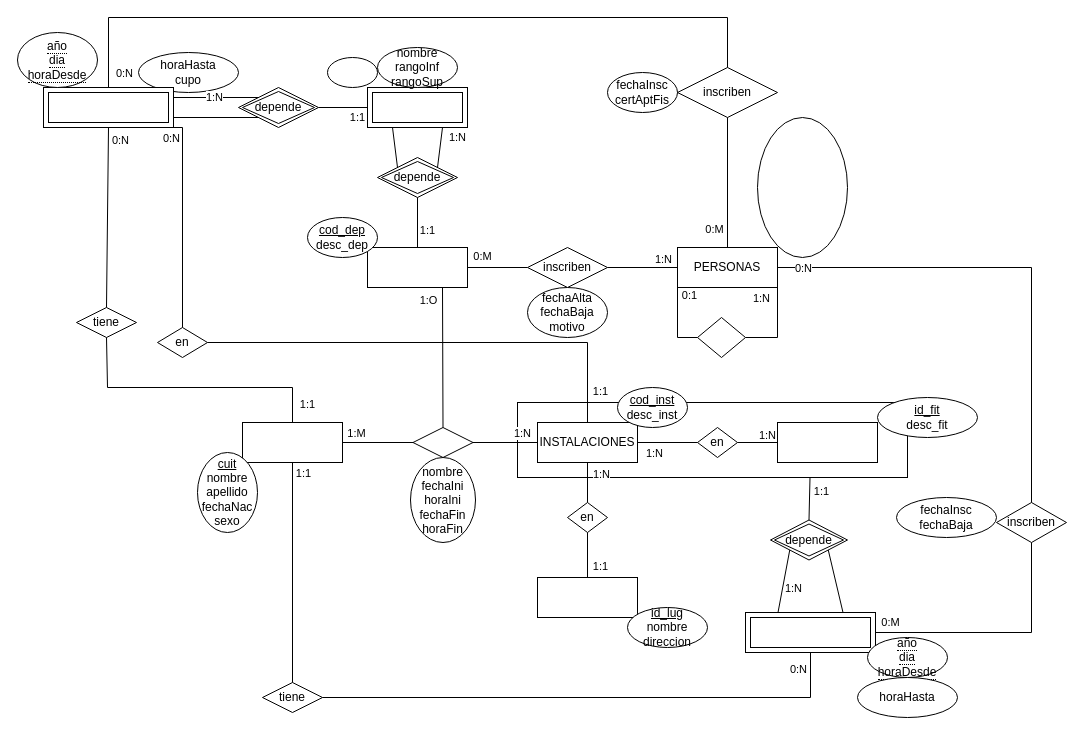
The diagram is 1084 pixels wide and 735 high, and some of its shapes have lost their labels. The shapes that lost their labels are listed below. From the top down, each one's centre as x and y in pixels, then its label:
At [352,72]: "nro_cat".
At [108,107]: "HORARIOS_DEP".
At [417,107]: "CATEGORÍAS".
At [802,187]: "nro_soc cuil nombre apellido fechaNac sexo fechaIng fechaBaja".
At [417,267]: "DEPORTES".
At [721,337]: "titular".
At [292,442]: "PROFESORES".
At [442,442]: "evento".
At [827,442]: "FITNESS".
At [587,597]: "LUGARES".
At [810,632]: "HORARIOS_ACT".
